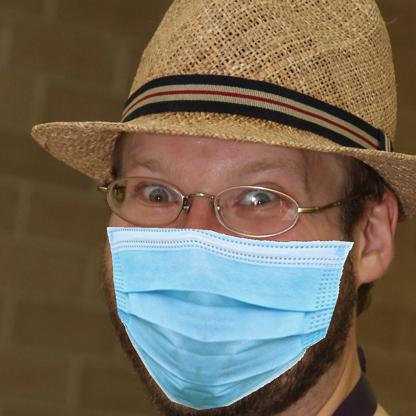mask: (102, 220, 356, 412)
